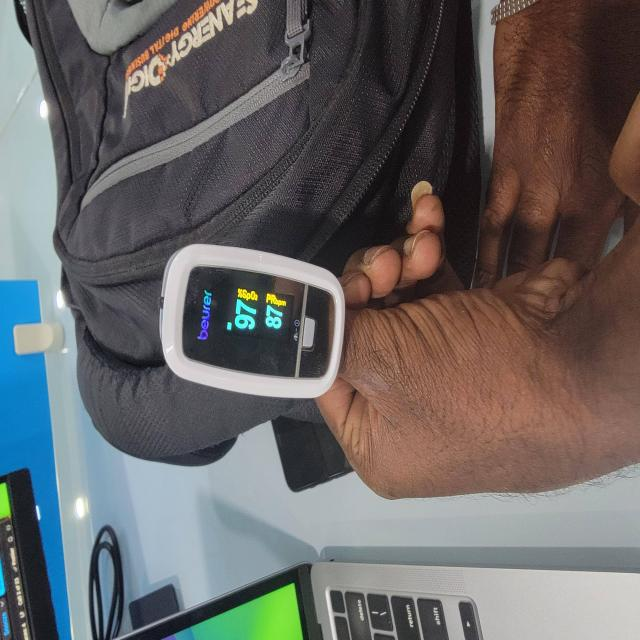spo2: (159, 245, 348, 402)
